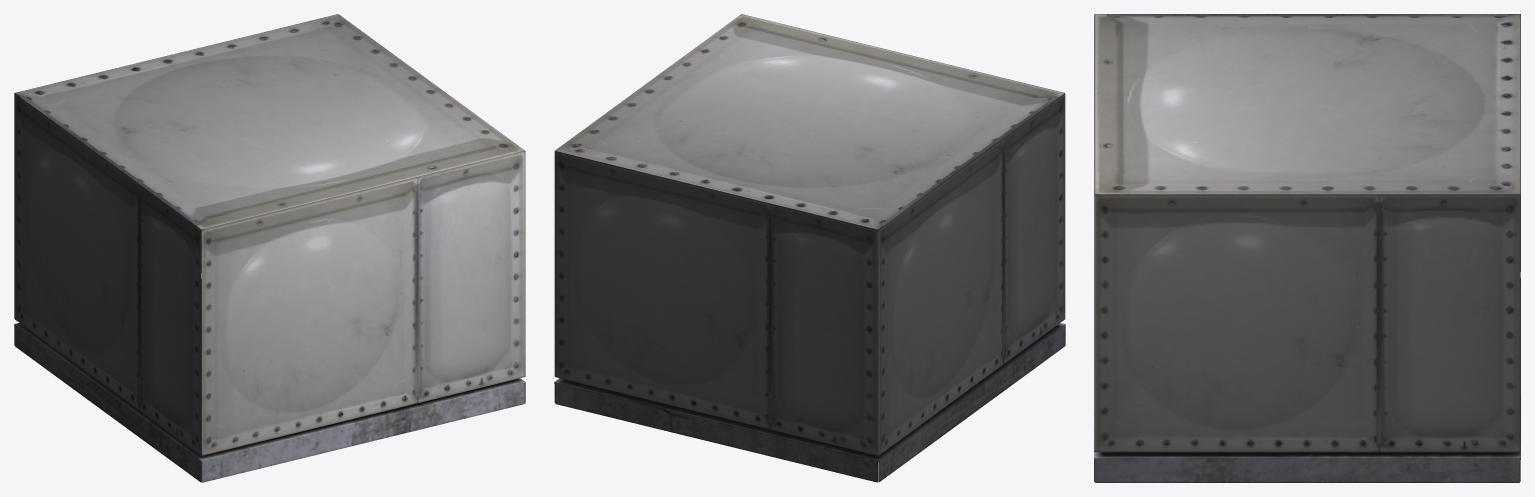
File: shuixiang002.FBX
3 views of the same model, side by side, from view 1: azimuth 30°, elevation 25°; view 2: azimuth 150°, elevation 25°; view 3: azimuth 270°, elevation 25° (orthographic). The views are drawn at different scales.
Parts seen in each view (by area): view 1: shuixiang002; view 2: shuixiang002; view 3: shuixiang002.
Part boxes in pixels (x1=…): shuixiang002: x1=14, y1=14, x2=525, y2=482; shuixiang002: x1=554, y1=14, x2=1065, y2=482; shuixiang002: x1=1094, y1=14, x2=1520, y2=482.
Size of the model in its own units: 120 by 89.54 by 120.
